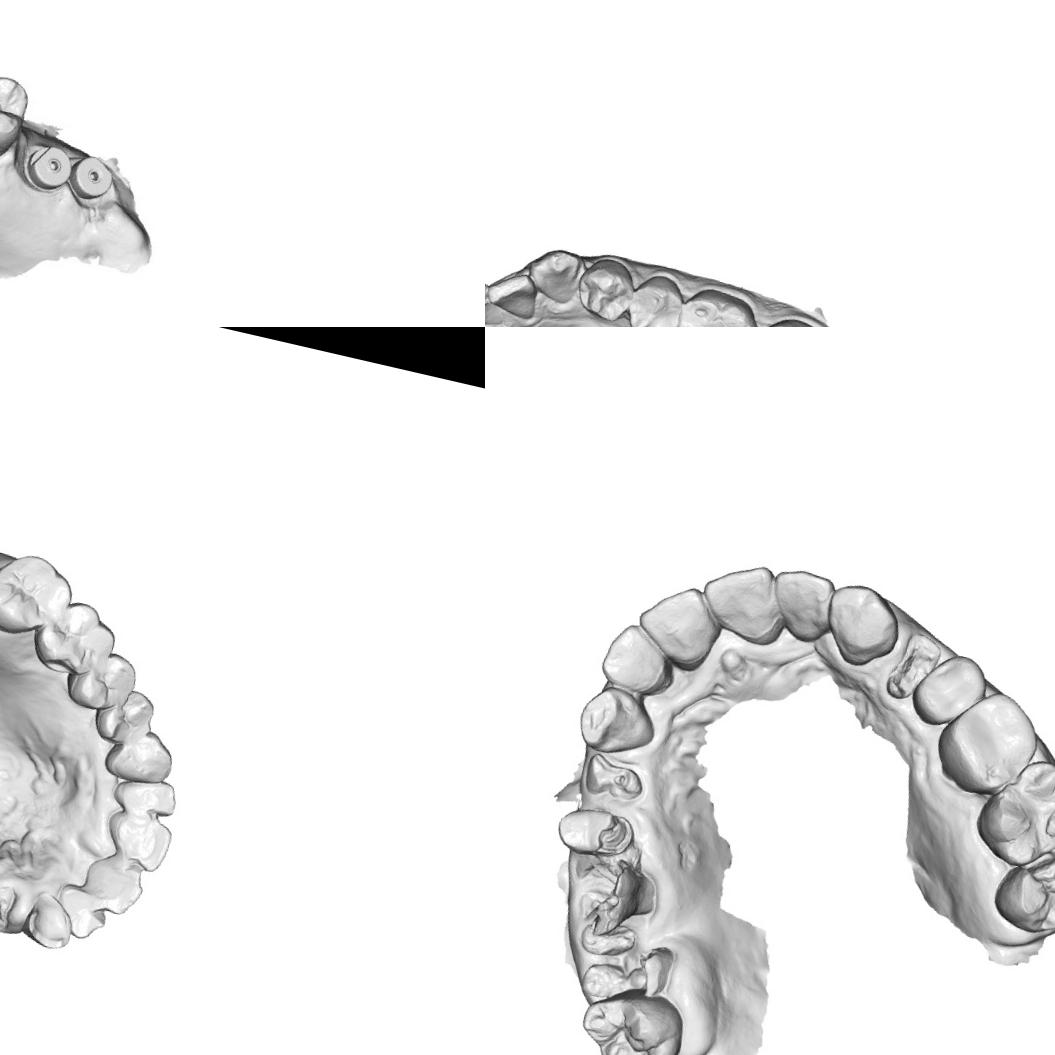canine: (817, 577, 906, 668), (568, 679, 664, 762), (101, 722, 180, 791), (18, 886, 80, 957), (521, 242, 587, 308)
implant: (20, 138, 82, 196), (70, 153, 119, 205)
incisor: (627, 576, 722, 670), (694, 552, 788, 642), (596, 617, 681, 698), (760, 561, 838, 642), (98, 806, 178, 877), (75, 849, 150, 921), (48, 880, 115, 946), (108, 768, 182, 824), (485, 267, 545, 323), (485, 277, 514, 327)
molar: (924, 678, 1048, 808), (965, 746, 1055, 882), (569, 978, 692, 1055), (27, 591, 124, 686), (0, 543, 81, 647), (987, 830, 1055, 947), (668, 282, 764, 327)
premolar: (907, 644, 988, 734), (64, 643, 144, 719), (88, 681, 161, 753), (571, 253, 642, 327), (623, 269, 688, 327), (0, 73, 33, 155)
